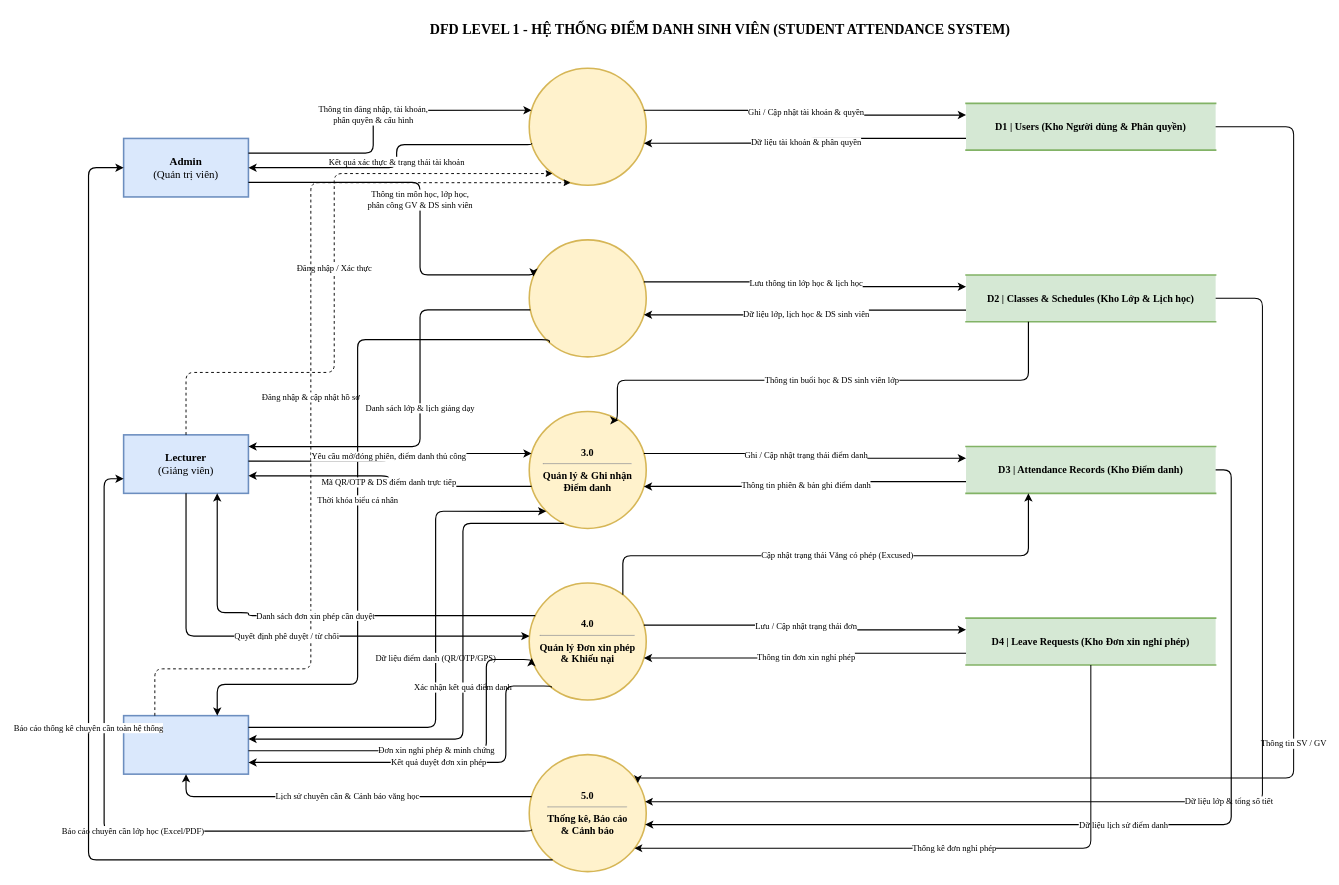
Image size: 1339x885. Some labels were removed from this diagram. Here are the shapes that lost their labels. From the top down, the centre of each, then its label:
At point 587,126: "1.0 Quản lý Tài khoản & Xác thực".
At point 587,298: "2.0 Quản lý Lớp học & Lịch học".
At point 185,744: "Student (Sinh viên)".
